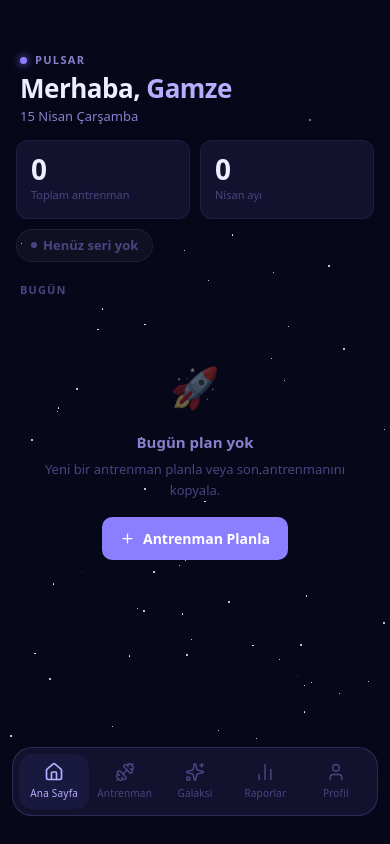
Test: Alt navigasyon › Antrenman tabına tıklanınca WorkoutPage açılır
The image size is (390, 844).
Click the button with test id "tab-workout" at [124, 782], box left=89, top=754, right=159, bottom=809
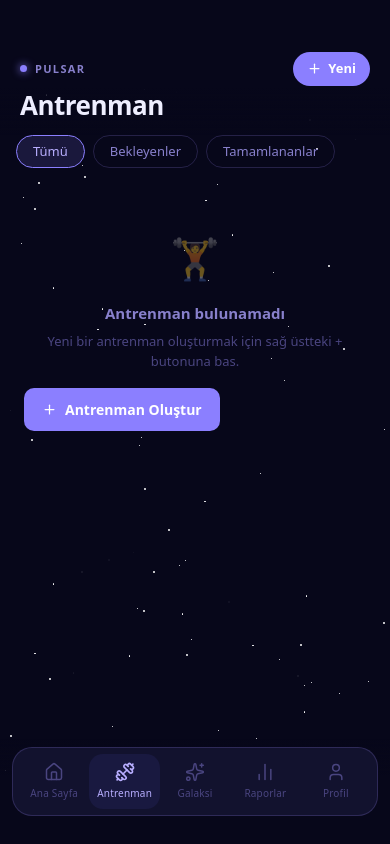
Expected: the heading "Antrenman" is shown, left=20, top=86, right=164, bottom=122
